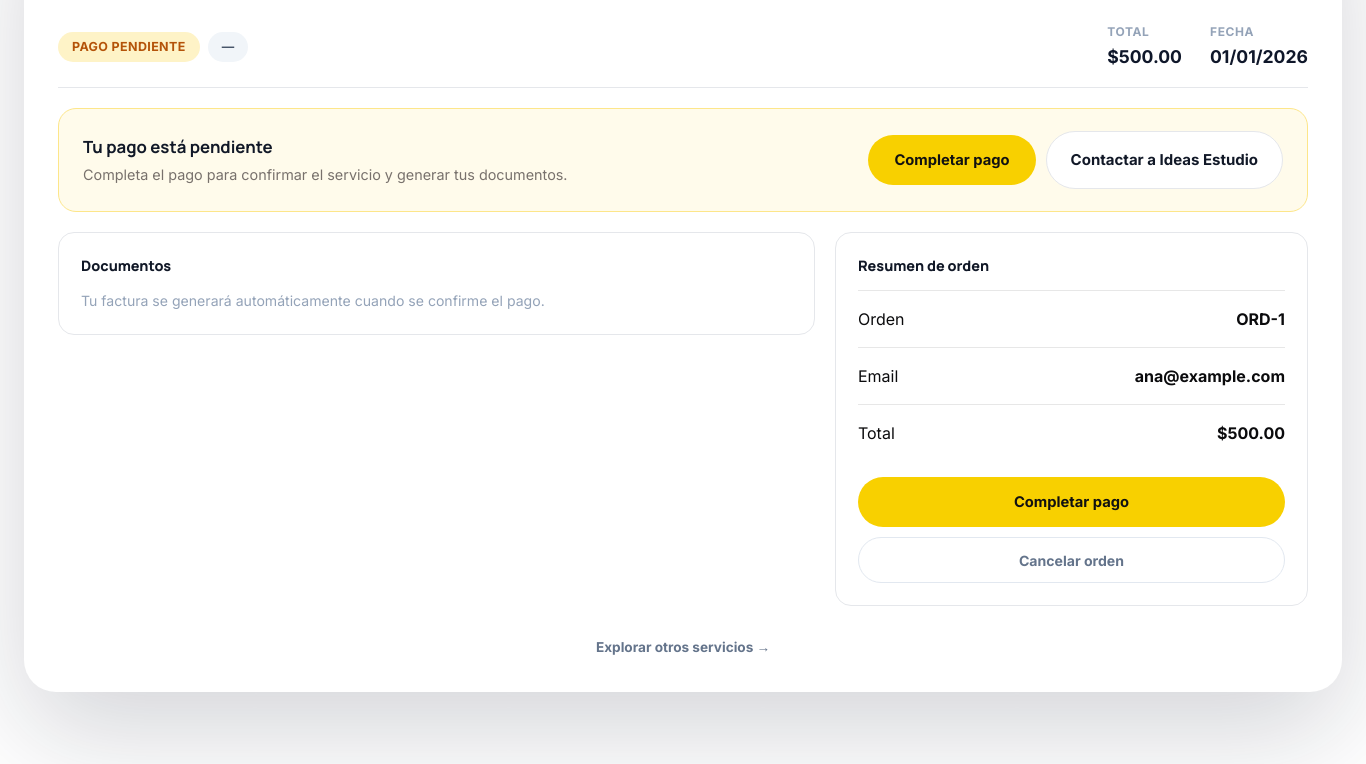
Test: AccountOrderDetailPage — post-success UI updates › shows the Cancelada badge and hides Cancelar orden / Completar pago after a successful cancel
(page scrolled)
Click the button "Cancelar orden": (1071,560) [858, 537, 1285, 583]
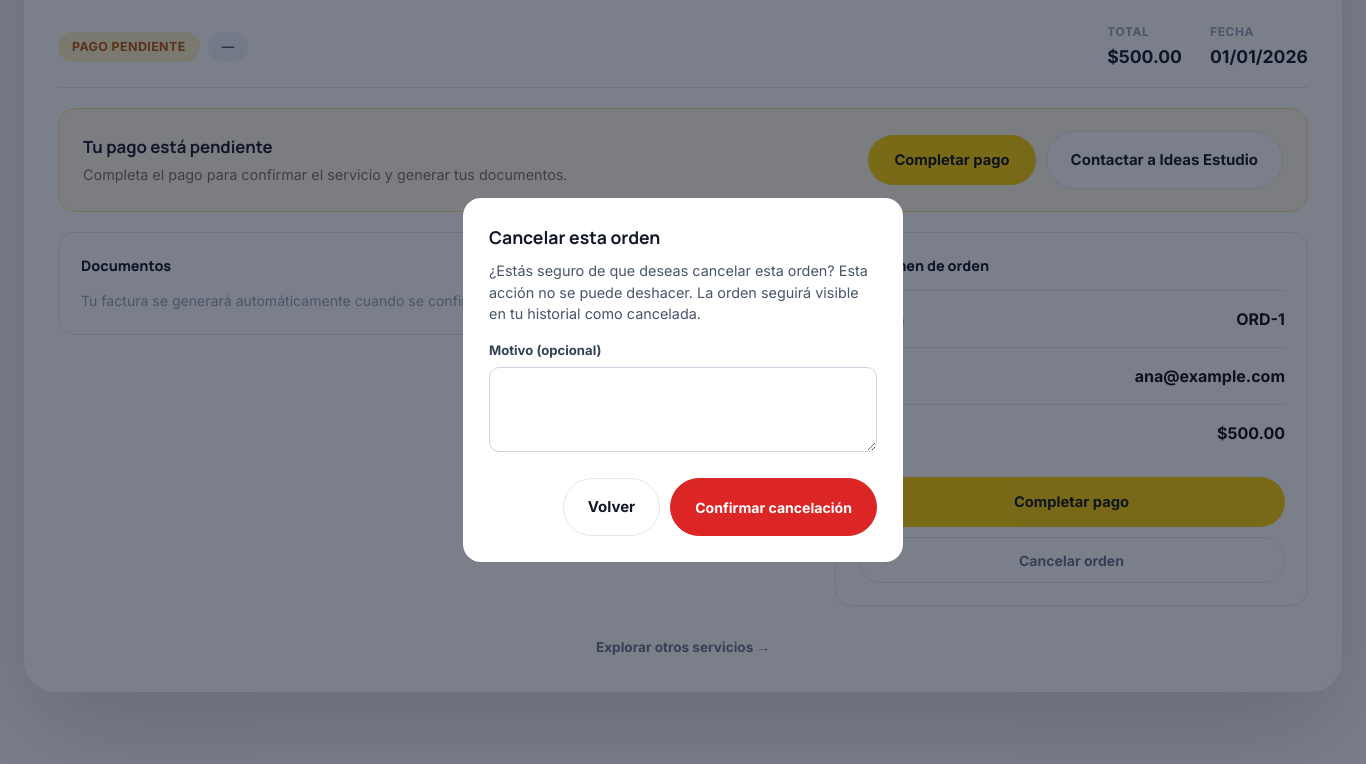
Click the button "Confirmar cancelación": (774,507) [670, 478, 877, 536]
(page scrolled)
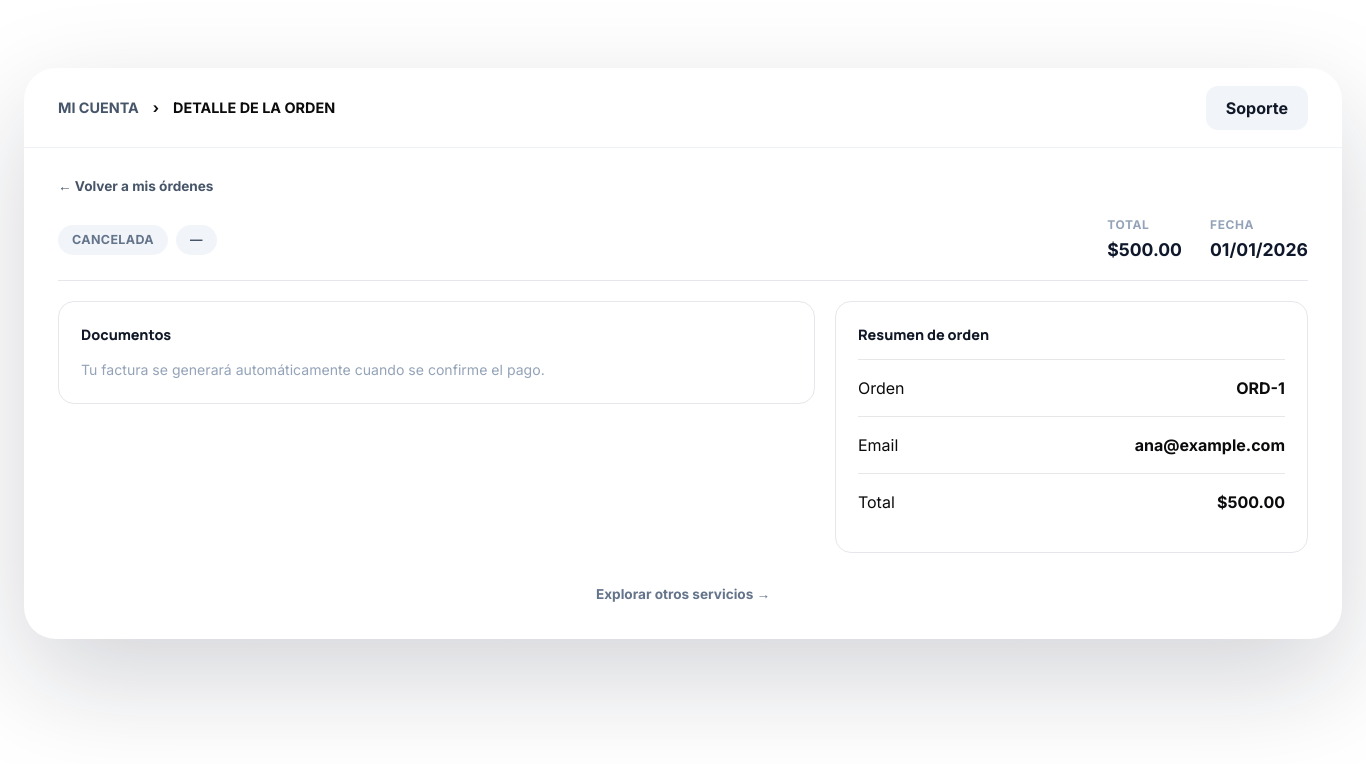
Now the text "Cancelada" is shown, box [58, 225, 168, 255]
Now the button "Cancelar orden" is gone
Now the link "Completar pago" is gone
